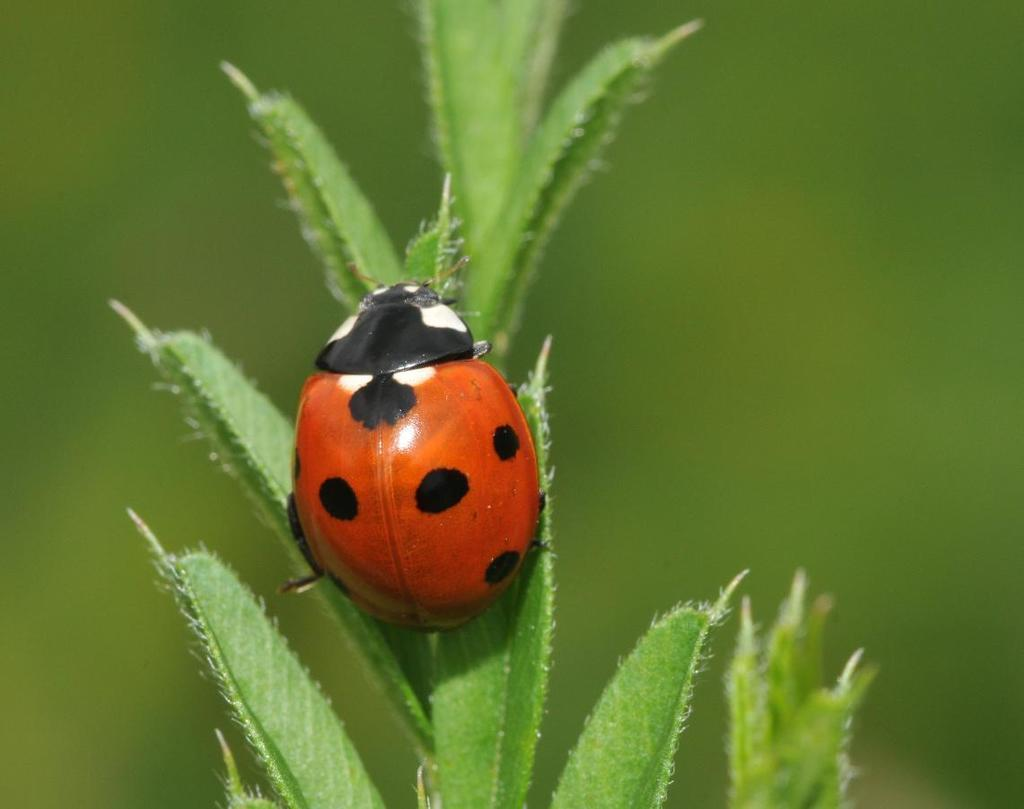ladybug: (277, 255, 549, 633)
